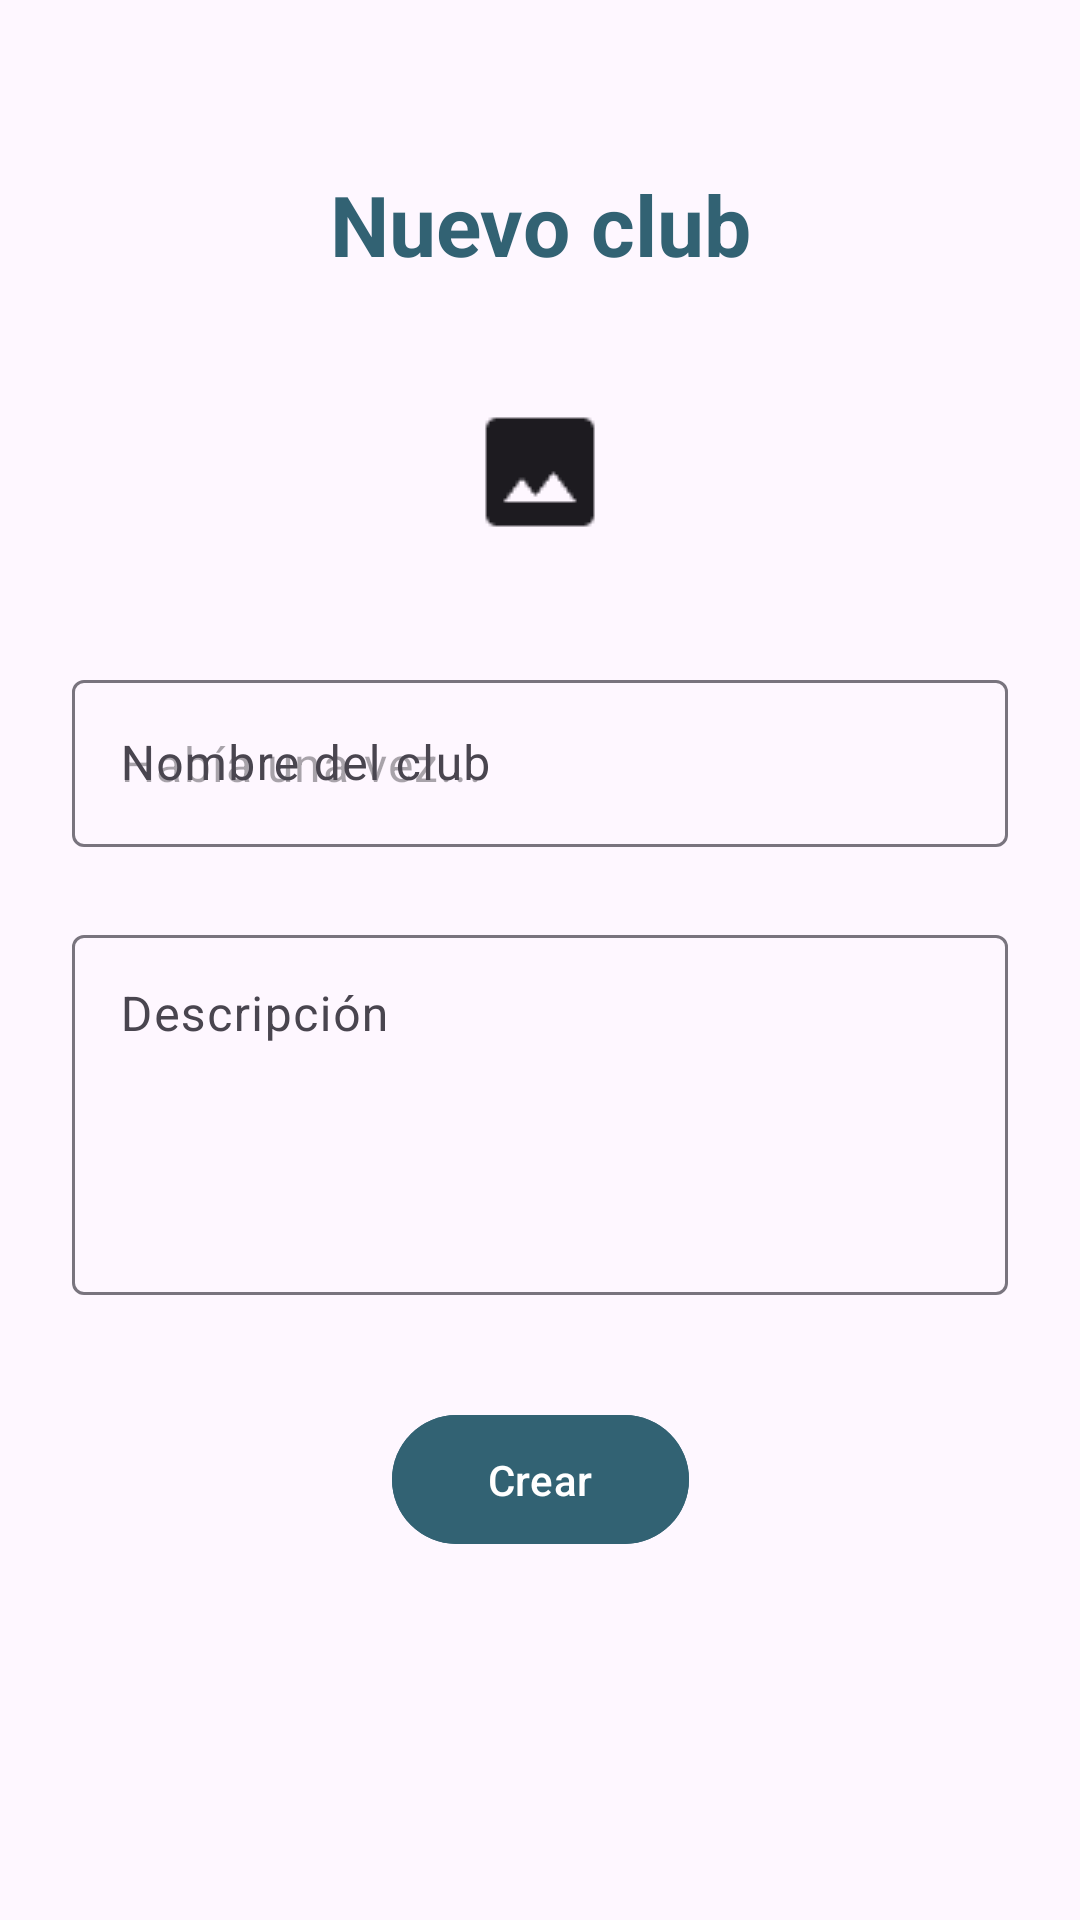

Screen size 1080 × 1920. Icon name, then its center in pixels as (x,y):
Seleccionar imagen: (540,472)
